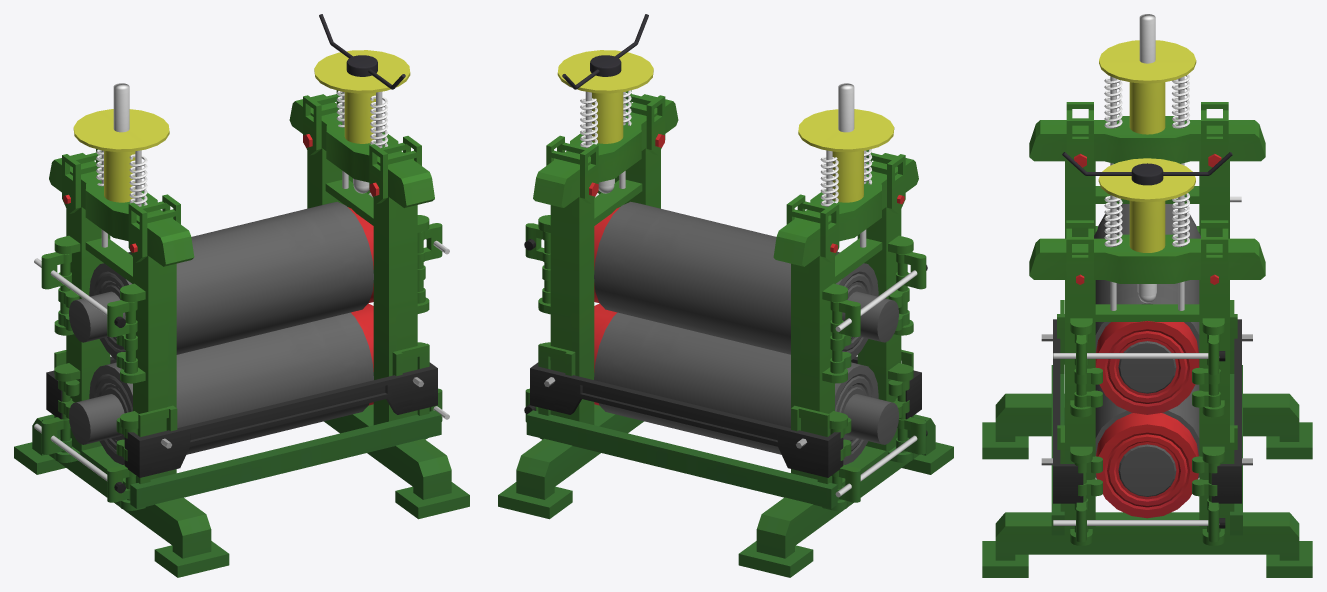
Rendered from Cuzhaji.glb.
3 renders of one model, left to right at view 1: azimuth 30°, elevation 25°; view 2: azimuth 150°, elevation 25°; view 3: azimuth 270°, elevation 25°, orthographic.
Visible parts, largest first — view 1: Cuzhaji; view 2: Cuzhaji; view 3: Cuzhaji.
Boxes of the visible parts, left/top/right/bottom form: Cuzhaji: left=14, top=14, right=469, bottom=577; Cuzhaji: left=498, top=14, right=953, bottom=577; Cuzhaji: left=982, top=14, right=1312, bottom=577.
Bounding box in the file's own units: 8.38 × 10.2 × 7.12.
1 material, 1 textured.
